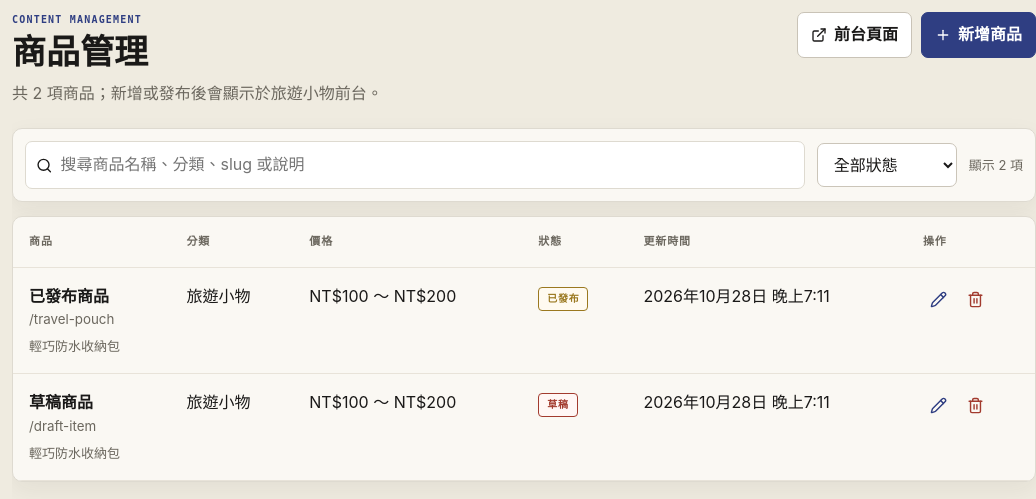
Scenario: ProductListPage — listing and filtering › filters by status dropdown
Expected: the text "已發布商品" is shown, x1=29 y1=286 x2=109 y2=306
Select "草稿" in the dropdown at x=887, y=165, box x1=817 y1=143 x2=957 y2=187
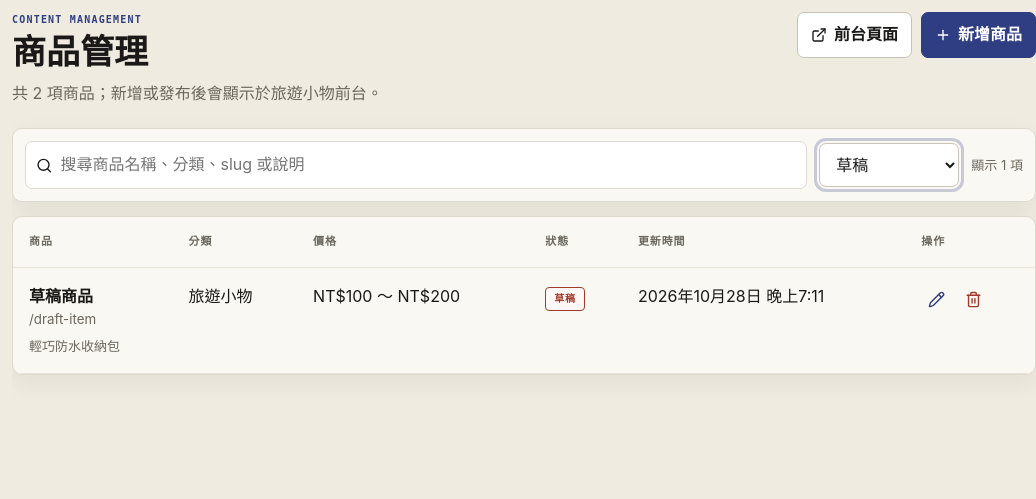
Expected: the text "草稿商品" is shown, x1=29 y1=286 x2=93 y2=306
Expected: the text "已發布商品" is gone
